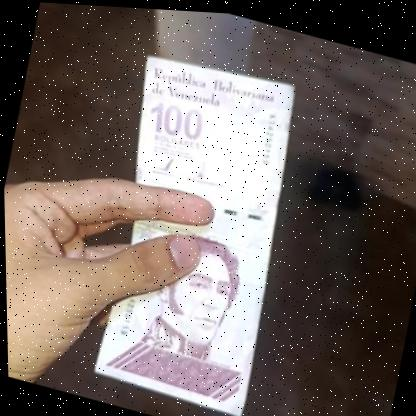one_hundred-front-vef: (80, 43, 311, 416)
